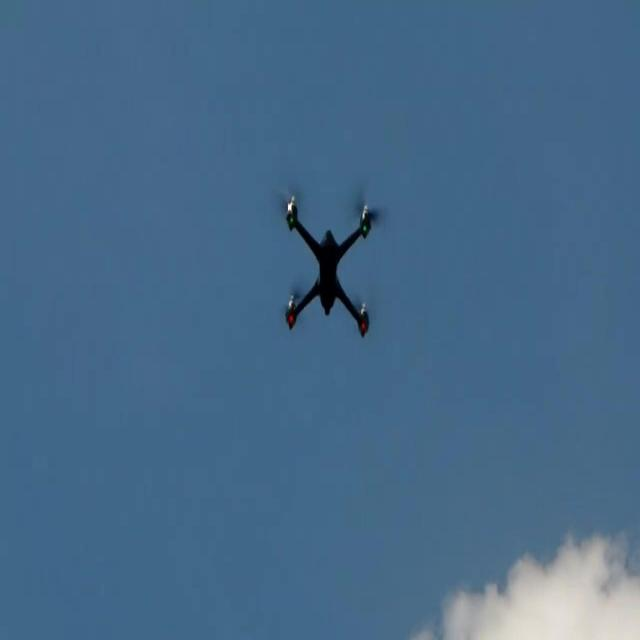drone: (279, 188, 379, 342)
